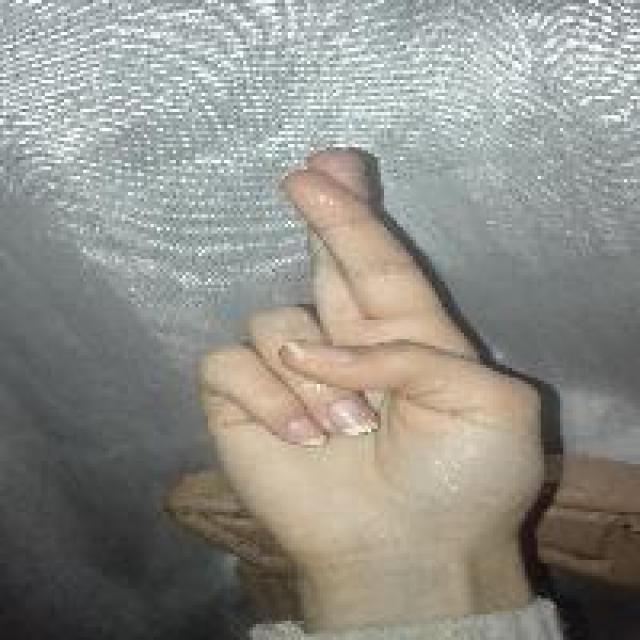R: (194, 146, 552, 558)
